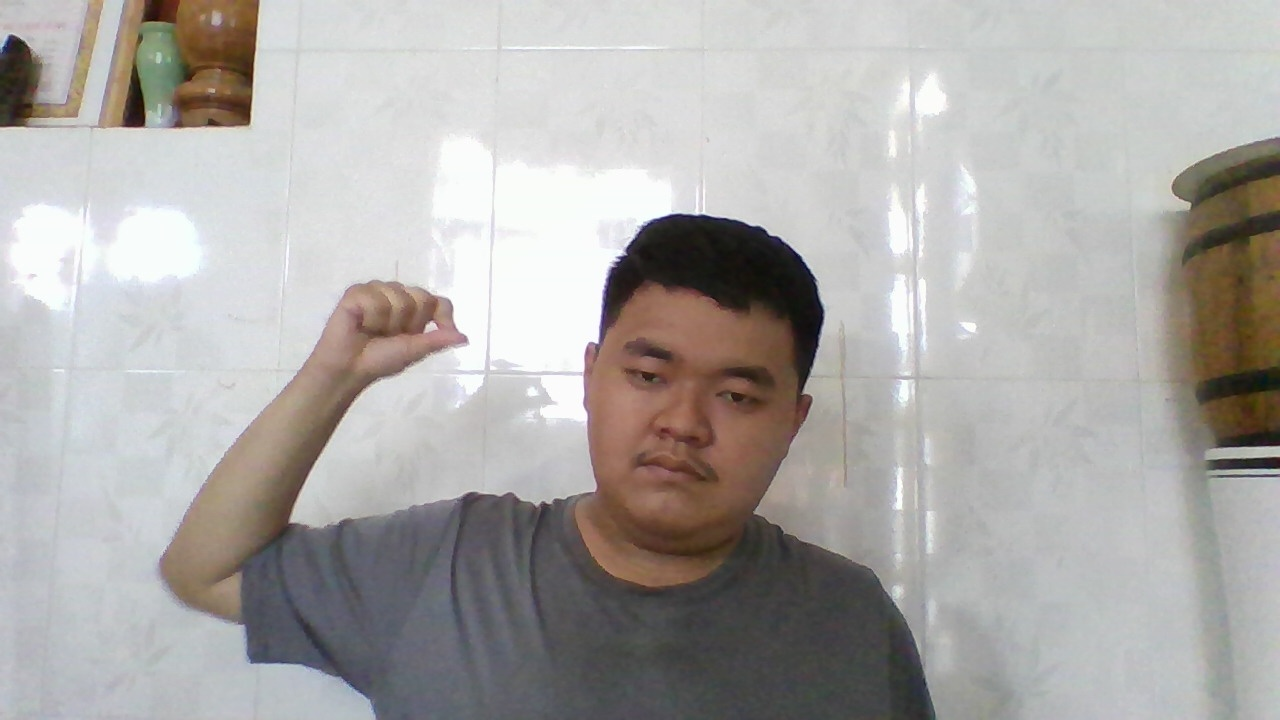S: (337, 271, 477, 390)
